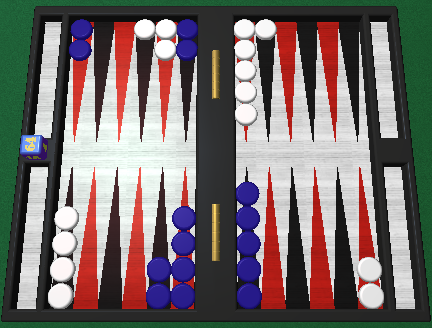checker: (358, 282, 384, 307), (356, 256, 382, 281), (170, 282, 195, 308), (171, 231, 195, 256), (53, 205, 77, 229), (51, 230, 75, 254), (50, 256, 74, 280), (48, 283, 72, 307), (172, 258, 196, 282), (147, 257, 171, 281), (146, 283, 170, 307), (235, 180, 259, 204), (235, 205, 259, 229), (236, 231, 260, 255), (236, 257, 260, 281), (237, 284, 261, 308), (172, 206, 195, 230), (233, 101, 257, 124), (234, 79, 258, 102), (133, 18, 156, 39), (234, 59, 256, 80), (233, 38, 255, 59), (233, 18, 255, 39), (255, 18, 277, 39), (154, 39, 176, 60), (155, 18, 177, 39), (176, 38, 197, 60), (177, 19, 199, 40), (68, 38, 90, 59), (70, 17, 92, 38)
